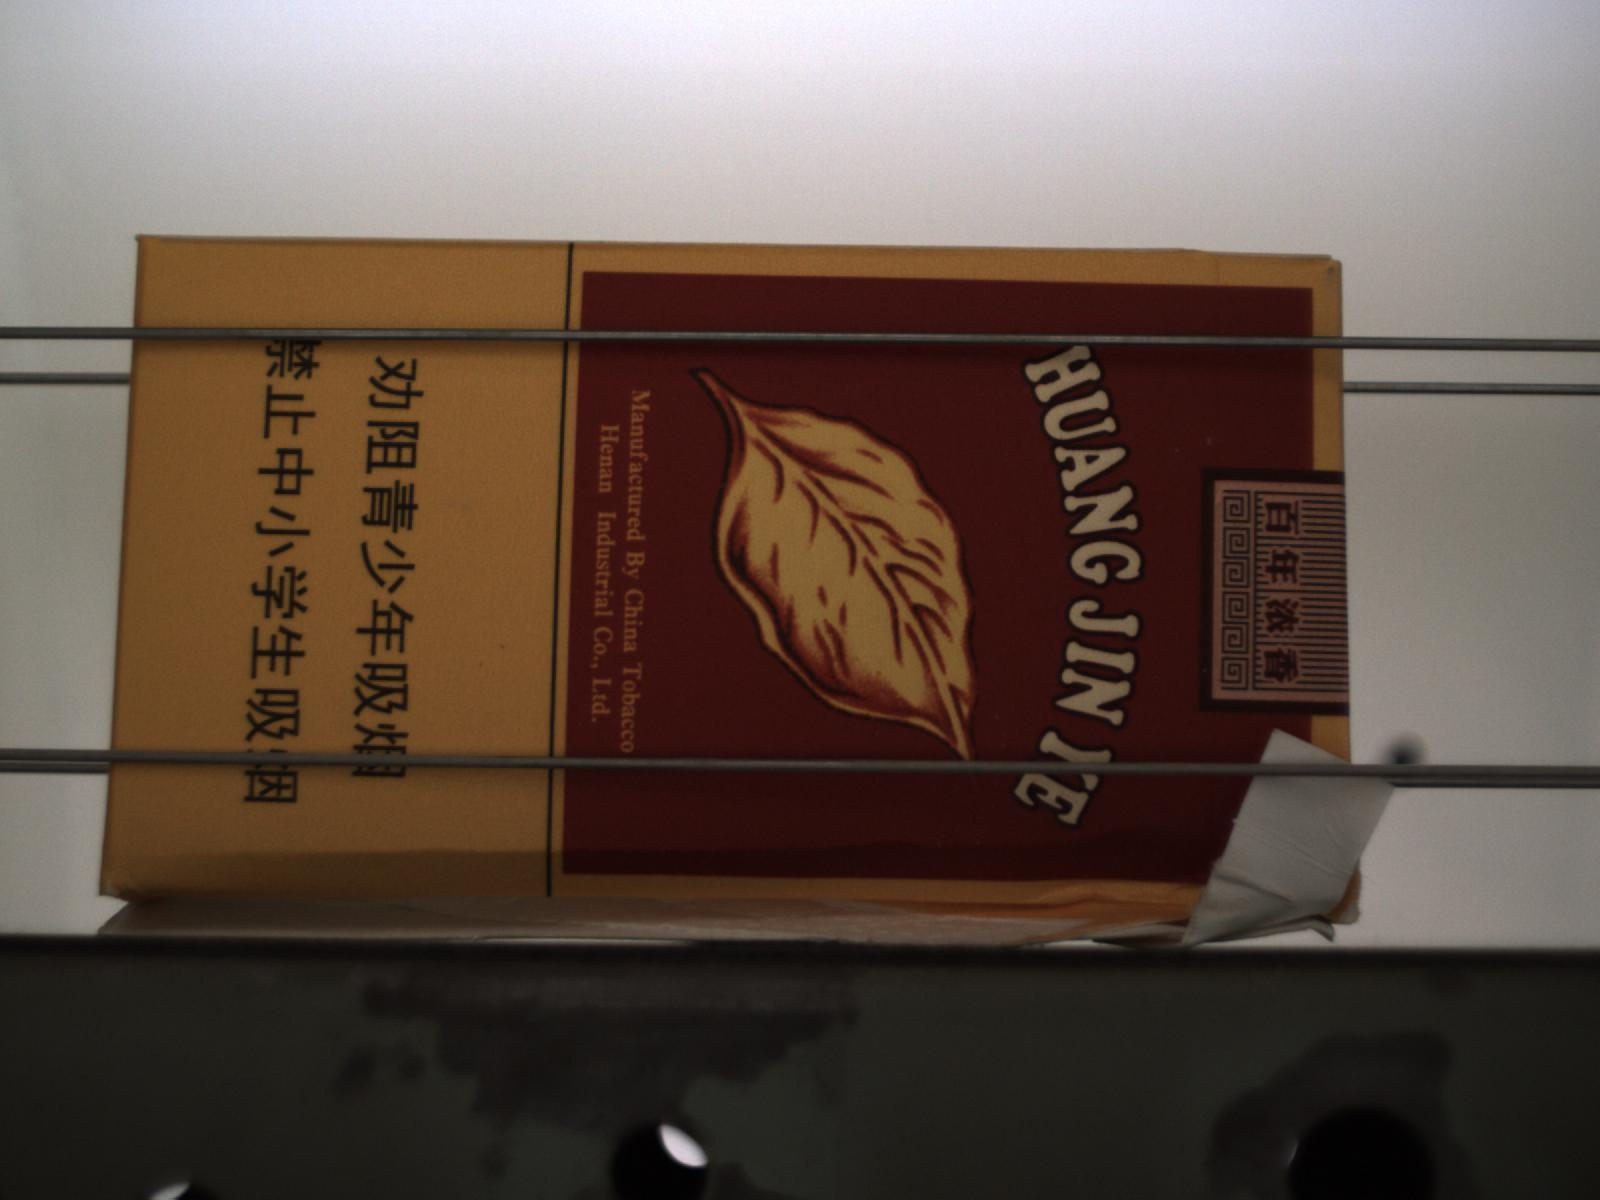boxDamage_back_heavy: (96, 831, 1251, 945)
dirtyPrint: (1204, 436, 1214, 447), (1173, 446, 1182, 454)
frame: (1186, 725, 1402, 944)
